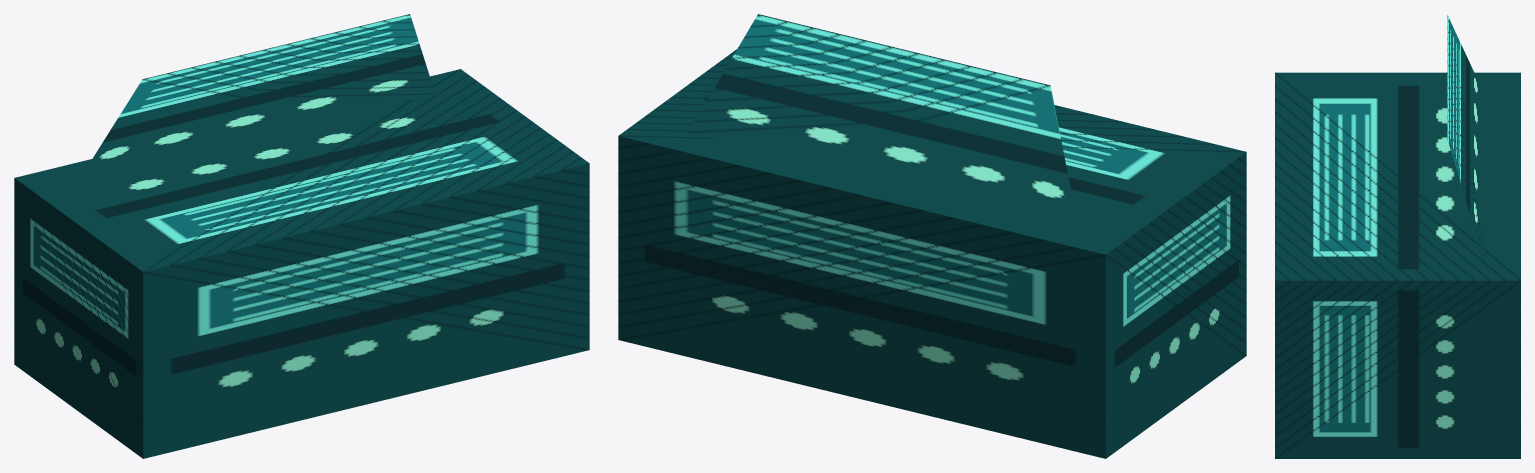
Rendered from radio.obj.
The picture shows the model from 3 angles, left to right: view 1: azimuth 30°, elevation 25°; view 2: azimuth 150°, elevation 25°; view 3: azimuth 270°, elevation 25°; orthographic projection. The views are drawn at different scales.
Visible parts, largest first — view 1: TexturedRadioConsole; view 2: TexturedRadioConsole; view 3: TexturedRadioConsole.
Part boxes in pixels (left/top/right/bottom): TexturedRadioConsole: left=14, top=14, right=589, bottom=458; TexturedRadioConsole: left=618, top=14, right=1246, bottom=458; TexturedRadioConsole: left=1275, top=15, right=1520, bottom=458.
Bounding box in the file's own units: 2 × 1.25 × 1.
Materials: 1 (1 with a texture image).
